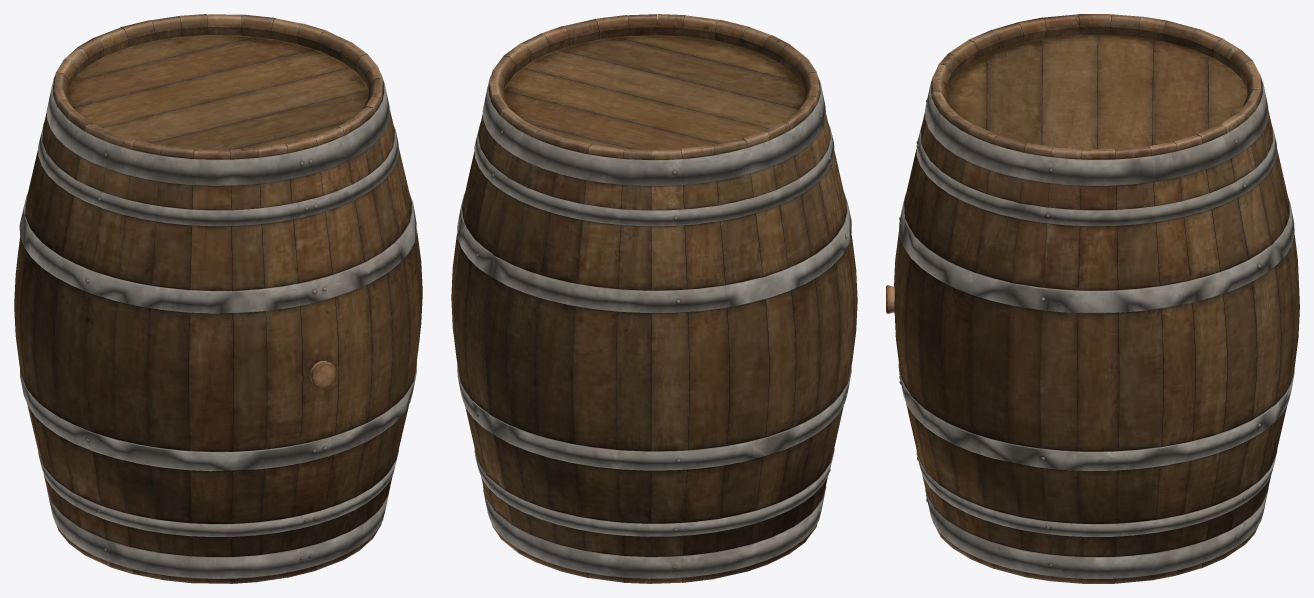
File: wine_barrel_01.glb
3 views of the same model, side by side, from view 1: azimuth 30°, elevation 25°; view 2: azimuth 150°, elevation 25°; view 3: azimuth 270°, elevation 25° (orthographic).
Visible parts, largest first — view 1: wine_barrel_01, wine_barrel_01_Lid, wine_barrel_01_bung; view 2: wine_barrel_01, wine_barrel_01_Lid; view 3: wine_barrel_01, wine_barrel_01_Lid.
Part boxes in pixels (bbox=[...]): wine_barrel_01: bbox=[14, 14, 422, 583]; wine_barrel_01_Lid: bbox=[67, 35, 368, 149]; wine_barrel_01_bung: bbox=[310, 361, 336, 388]; wine_barrel_01: bbox=[451, 14, 857, 583]; wine_barrel_01_Lid: bbox=[503, 35, 805, 152]; wine_barrel_01: bbox=[894, 14, 1299, 583]; wine_barrel_01_Lid: bbox=[946, 35, 1247, 149].
Size of the model in its own units: 0.7419 by 0.8713 by 0.756.
1 material, 1 textured.
